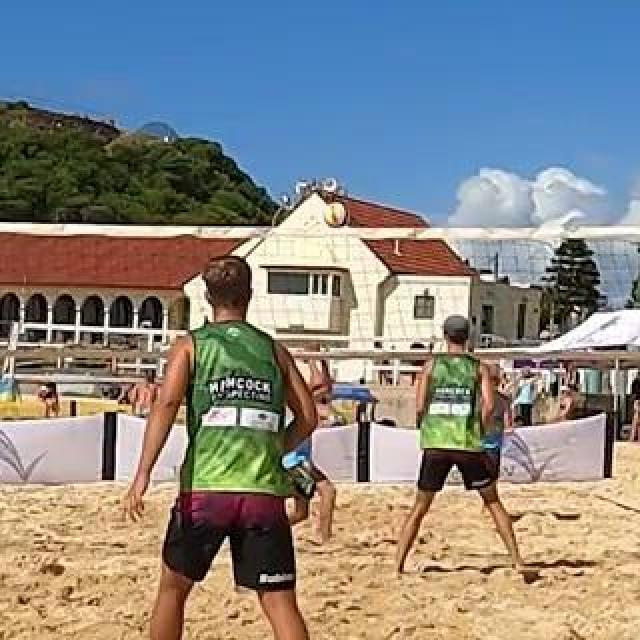volleyball: (323, 203, 347, 227)
